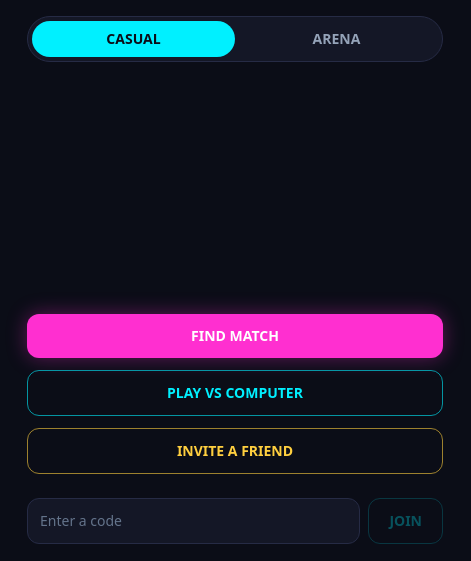
Test case: MatchmakingScreen — Join with a code › disables the Join button until a code is typed
expect the button "Join" is disabled: met, box [368,498,443,544]
Type "xyz98765" into the field with placeholder "Enter a code" at x=194, y=521, box [27,498,360,544]
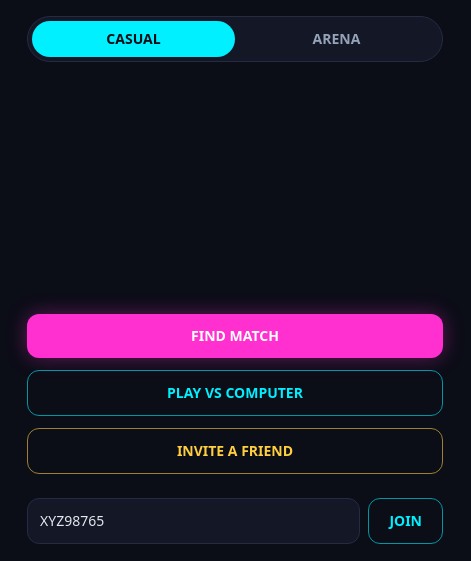
expect the button "Join" is enabled: met, box [368,498,443,544]
